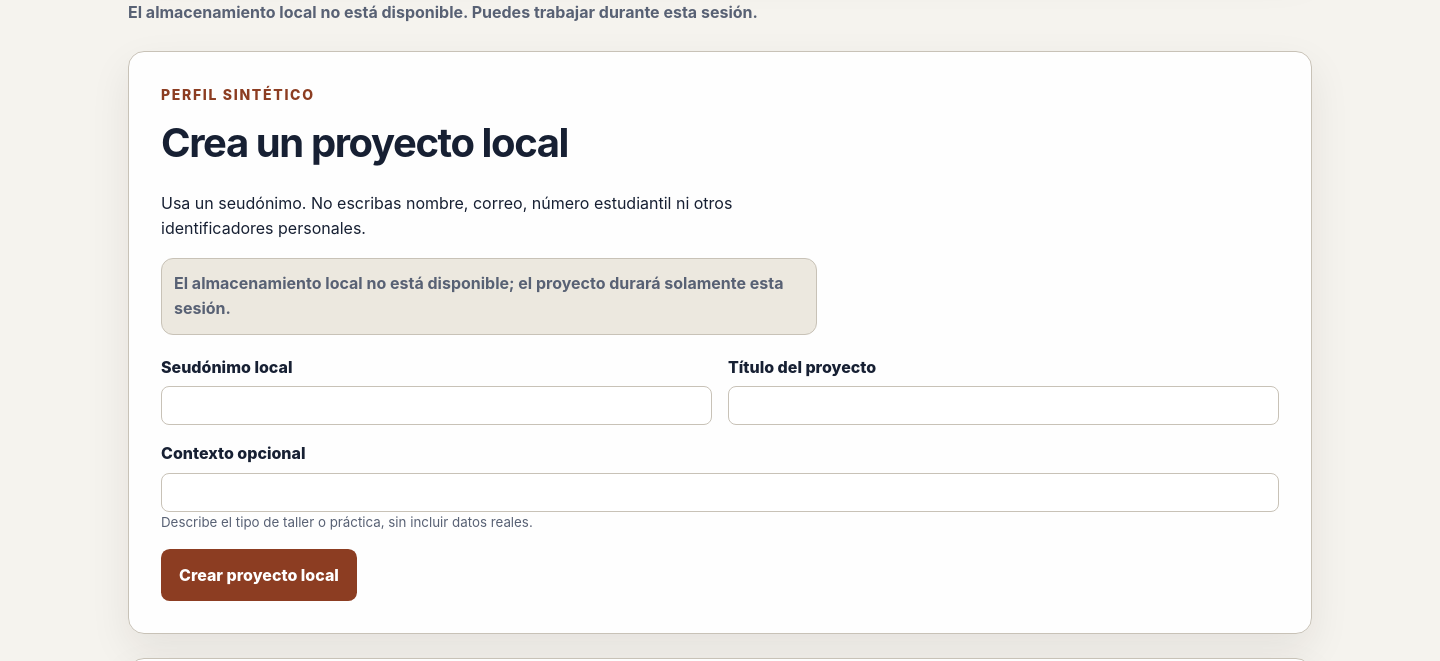
H08-4 reusable mission engine › navega por las cuatro misiones funcionales
This screenshot has width=1440, height=661.
(page scrolled)
Type "Brisa" into the field labelled "Seudónimo local" at coordinates (436, 406), box 161,386 -> 712,426
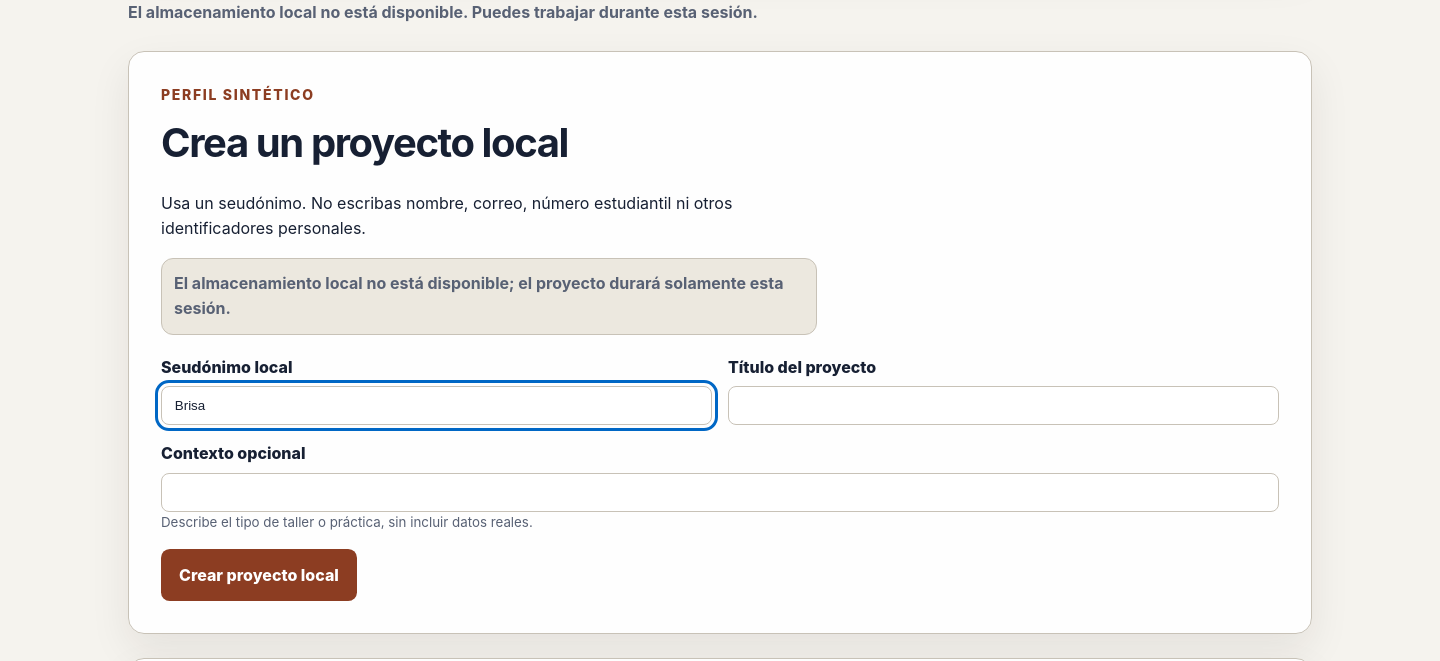
Type "La isla de los ecos" into the field labelled "Título del proyecto" at coordinates (1004, 406), box 728,386 -> 1279,426
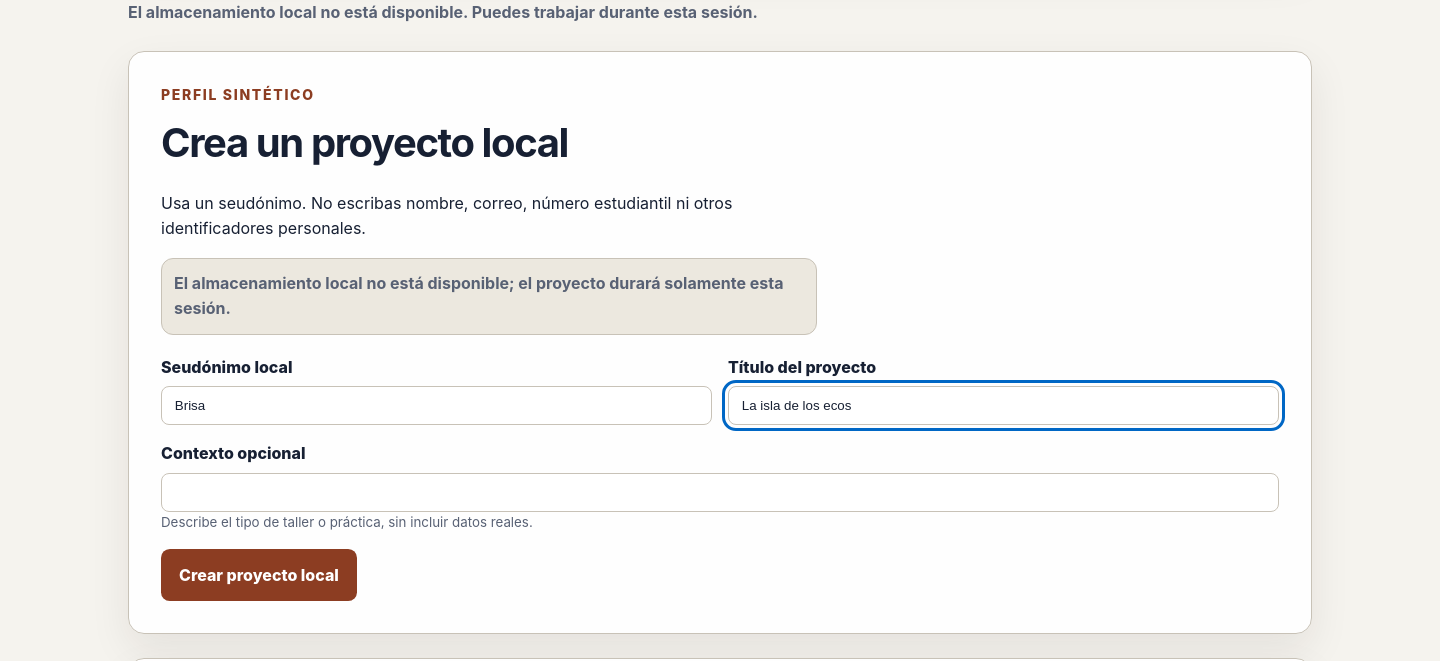
Click the button "Crear proyecto local" at coordinates (259, 575), box 161,549 -> 357,601
(page scrolled)
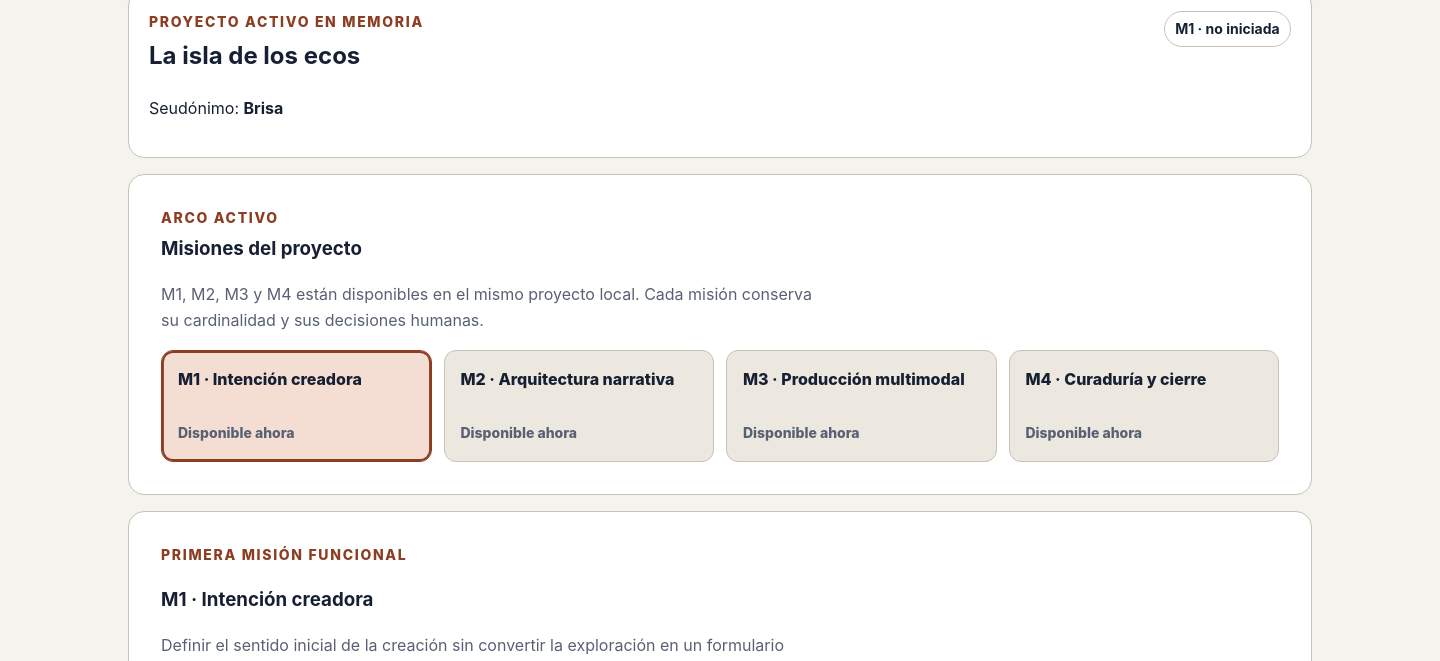
Click the link "M2 · Arquitectura narrativa Disponible ahora" at coordinates (568, 379), box 444,350 -> 714,462
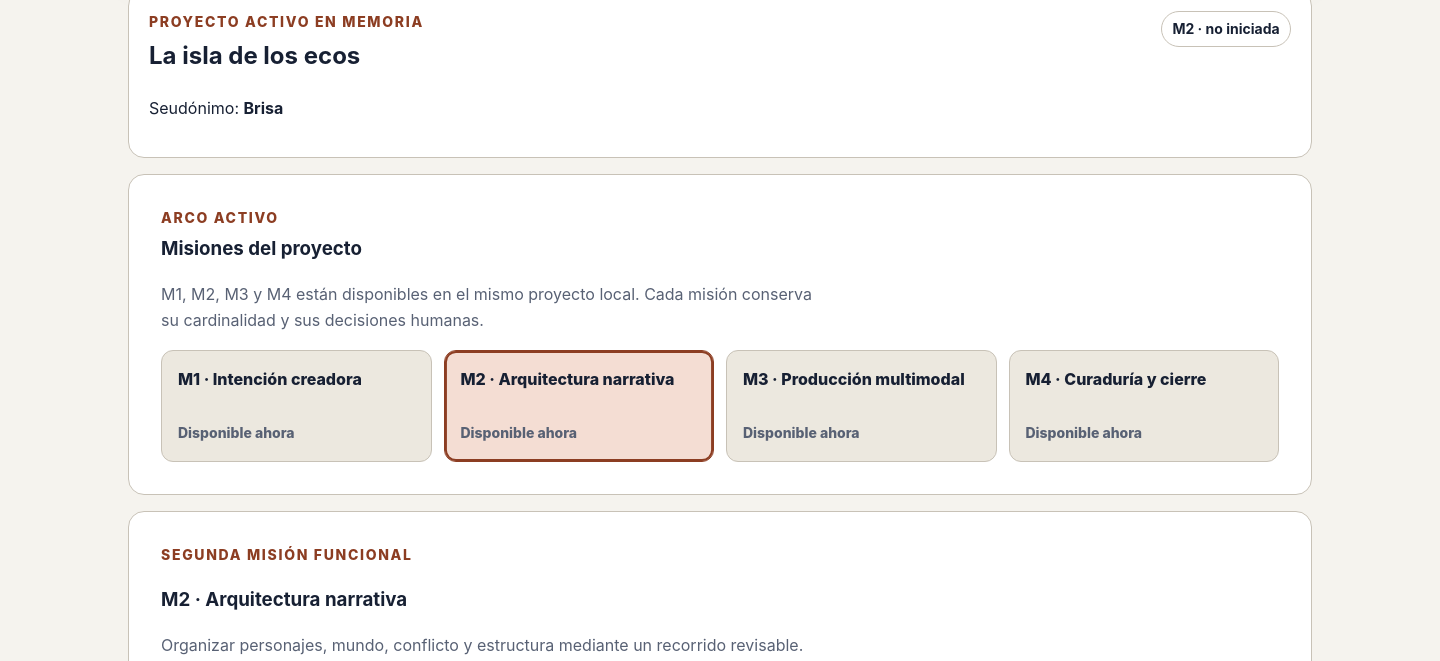
Expected: the heading with id "mission-title" reads "M2 · Arquitectura narrativa", 161,588 -> 407,611
Click the link "M3 · Producción multimodal Disponible ahora" at coordinates (854, 379), box 726,350 -> 996,462
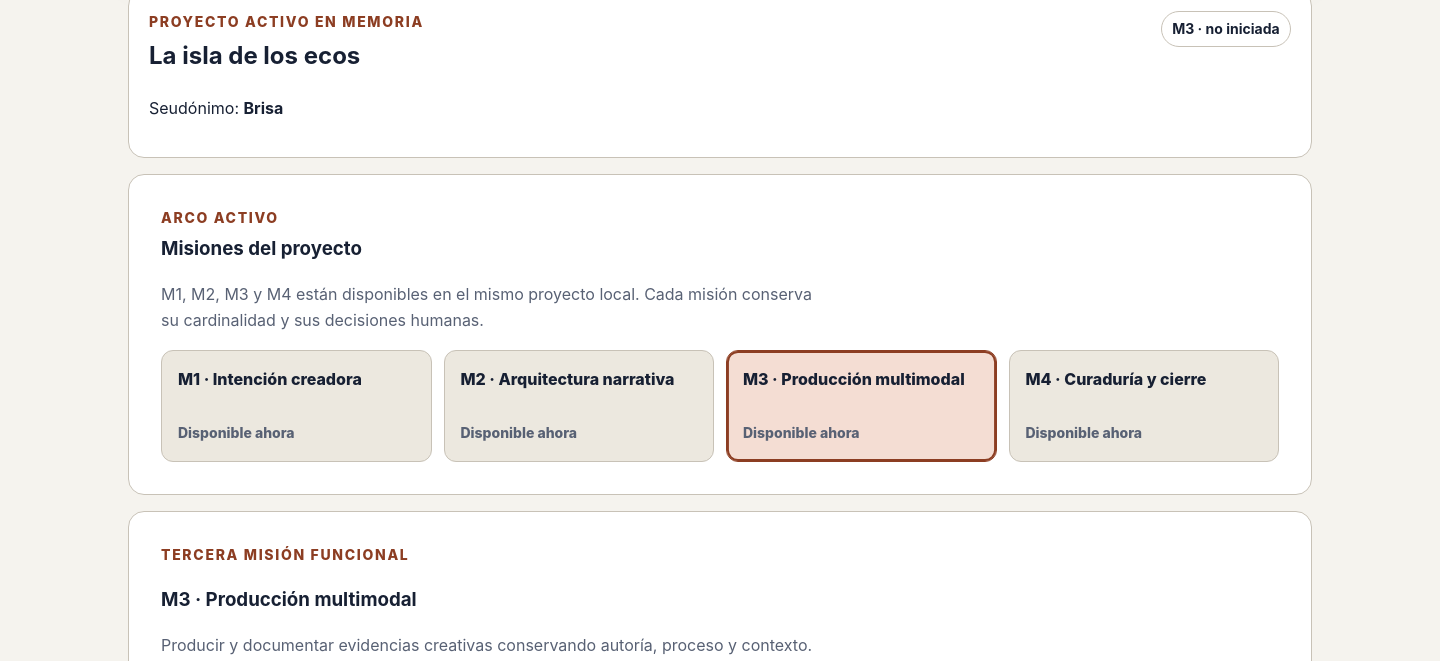
Expected: the heading with id "mission-title" reads "M3 · Producción multimodal", 161,588 -> 417,611
Click the link "M4 · Curaduría y cierre Disponible ahora" at coordinates (1116, 379), box 1008,350 -> 1279,462
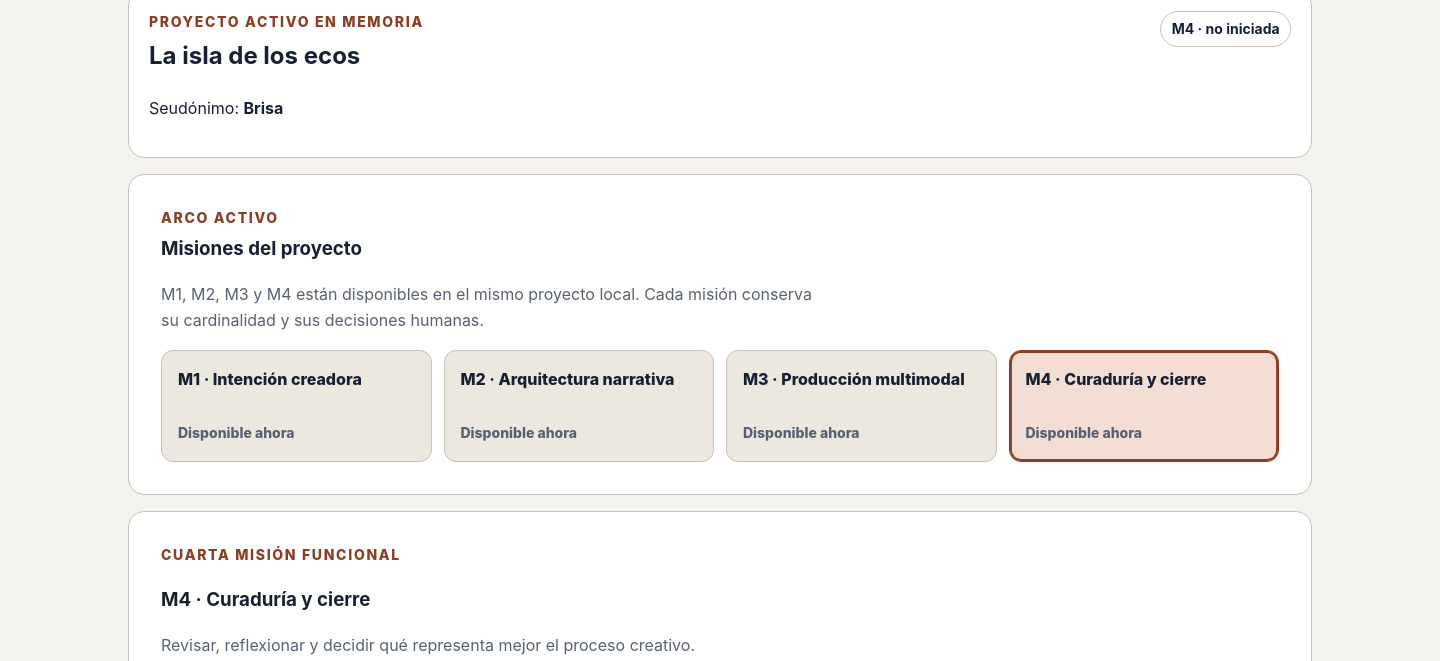
Expected: the heading with id "mission-title" reads "M4 · Curaduría y cierre", 161,588 -> 370,611
